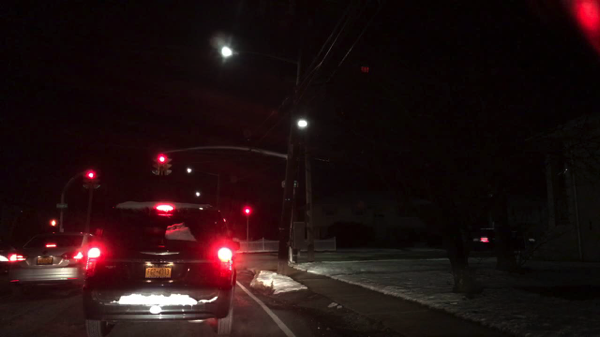car: (84, 202, 240, 335), (8, 232, 99, 295), (472, 227, 534, 251), (0, 239, 18, 272)
traffic light: (158, 154, 166, 175), (92, 171, 101, 189), (151, 157, 160, 175), (164, 156, 171, 176), (82, 170, 89, 189), (88, 169, 94, 186), (243, 206, 250, 216), (50, 220, 58, 226)
traffic sign: (281, 180, 298, 188), (57, 202, 67, 209)
